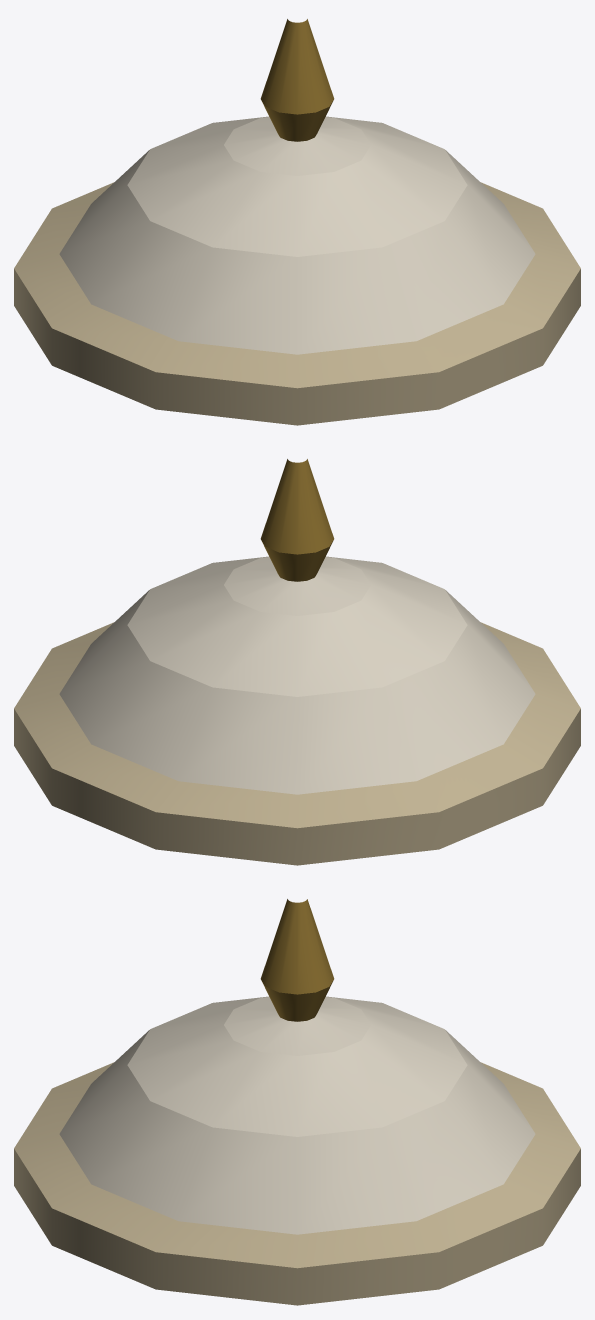
The model's file is dome.cap.plaster.glb.
3 renders of one model, top to bottom at view 1: azimuth 30°, elevation 25°; view 2: azimuth 150°, elevation 25°; view 3: azimuth 270°, elevation 25°, orthographic.
Parts seen in each view (by area): view 1: dome_cap_plaster; view 2: dome_cap_plaster; view 3: dome_cap_plaster.
Part boxes in pixels (x1,y1,x2,y2): dome_cap_plaster: [14, 19, 580, 425]; dome_cap_plaster: [14, 459, 580, 865]; dome_cap_plaster: [14, 899, 580, 1305].
Size of what is drawn, in the model's own units: 1.7 by 0.95 by 1.7.
